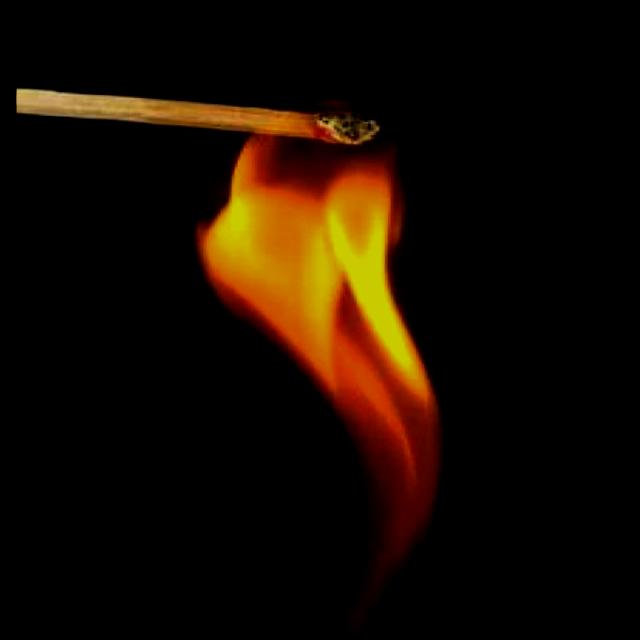helmet: (182, 93, 473, 637)
